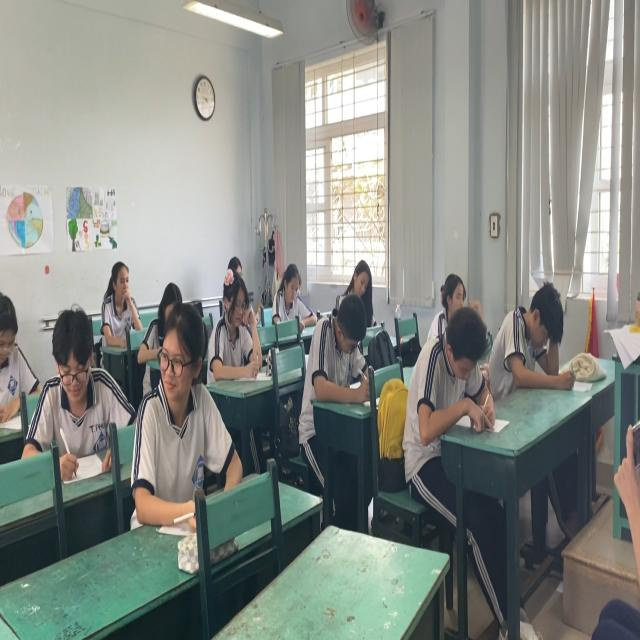cheating: (132, 291, 232, 485)
not_cheating: (414, 280, 512, 432), (41, 309, 121, 488), (501, 264, 570, 377), (308, 298, 379, 402), (212, 271, 268, 384), (99, 243, 148, 347), (263, 261, 317, 322), (347, 257, 378, 301)
